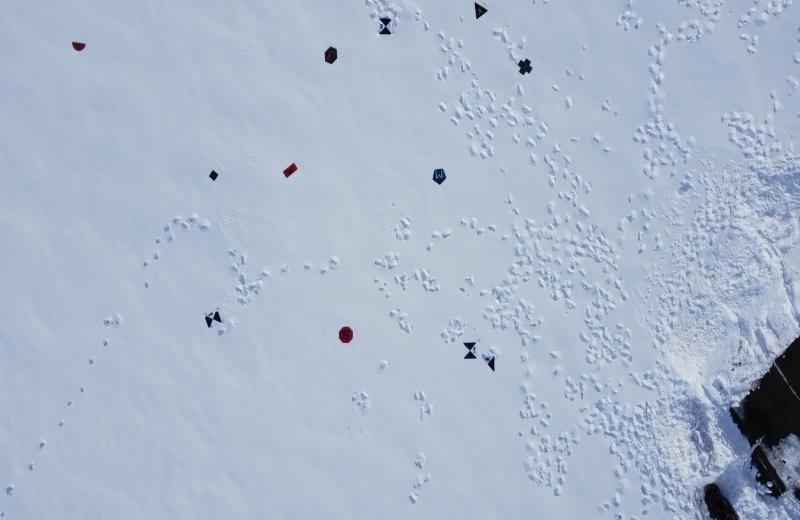Cross: (517, 58, 533, 75)
Octagon: (338, 327, 354, 345)
Pentagon: (431, 168, 447, 186)
Rectangle: (323, 46, 339, 64), (283, 162, 299, 178)
Semi Circle: (70, 41, 88, 53)
Square: (208, 170, 219, 183)
Triangle: (473, 1, 489, 20)
